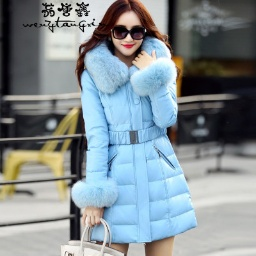face: (97, 1, 161, 57)
